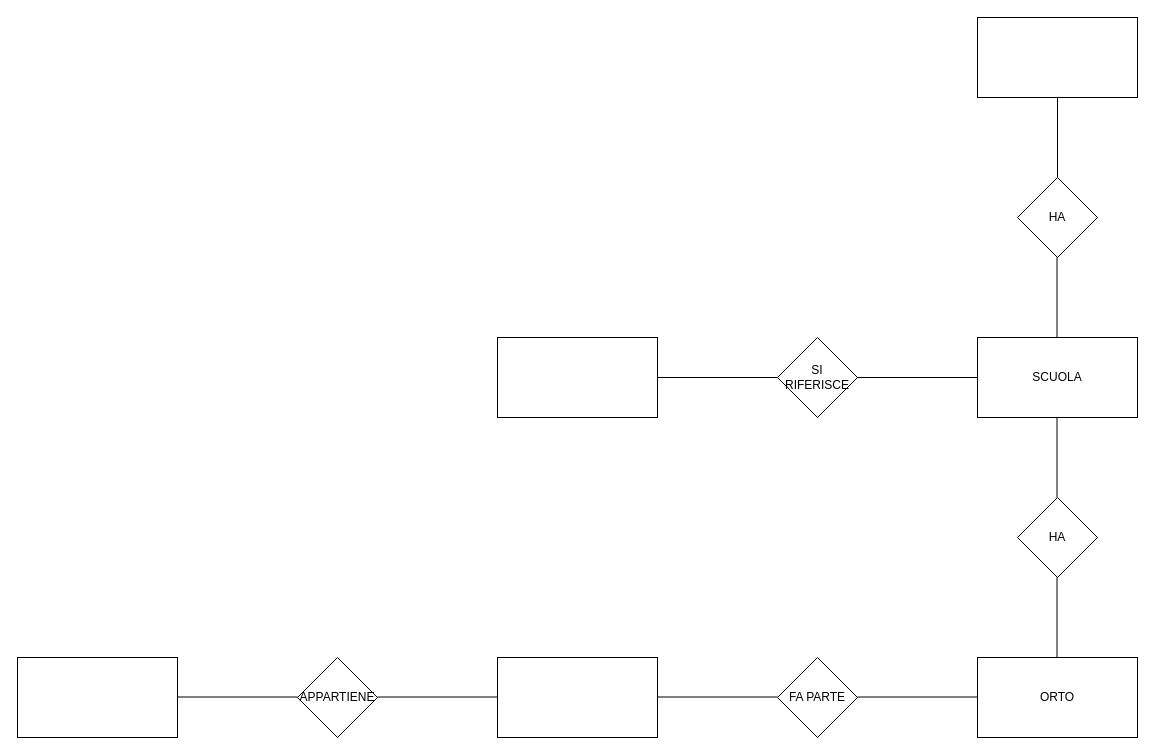
Image size: 1155x755. Some labels were removed from this diagram. Here are the shapes that lost their labels. From the top down, the centre of each, then its label:
the point at 1057,57: CLASSE
the point at 577,377: PERSONA
the point at 97,697: SPECIE
the point at 577,697: PIANTA
